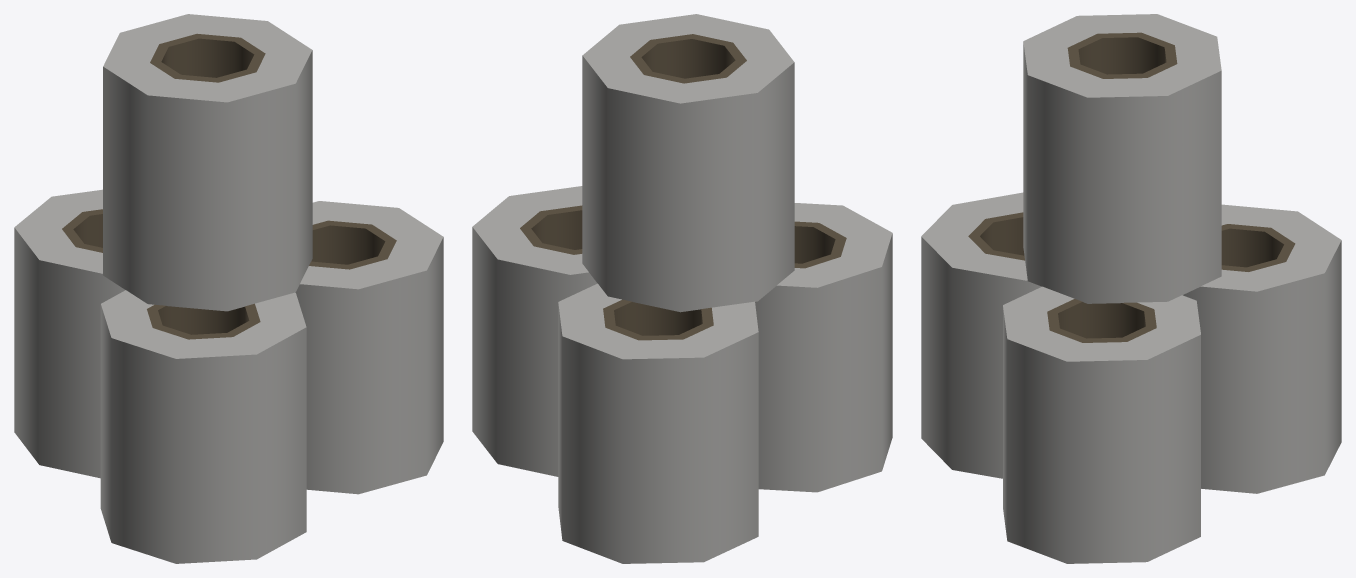
The model's file is Bathroom_ToiletPaperPile.gltf.
3 views of the same model, side by side, from view 1: azimuth 30°, elevation 25°; view 2: azimuth 150°, elevation 25°; view 3: azimuth 270°, elevation 25° (orthographic).
Parts seen in each view (by area): view 1: Bathroom_ToiletPaperPile; view 2: Bathroom_ToiletPaperPile; view 3: Bathroom_ToiletPaperPile.
Part boxes in pixels (bbox=[...]): Bathroom_ToiletPaperPile: bbox=[14, 14, 443, 563]; Bathroom_ToiletPaperPile: bbox=[472, 14, 892, 563]; Bathroom_ToiletPaperPile: bbox=[921, 14, 1341, 563].
Size of the model in its own units: 0.3345 by 0.3747 by 0.3498.
